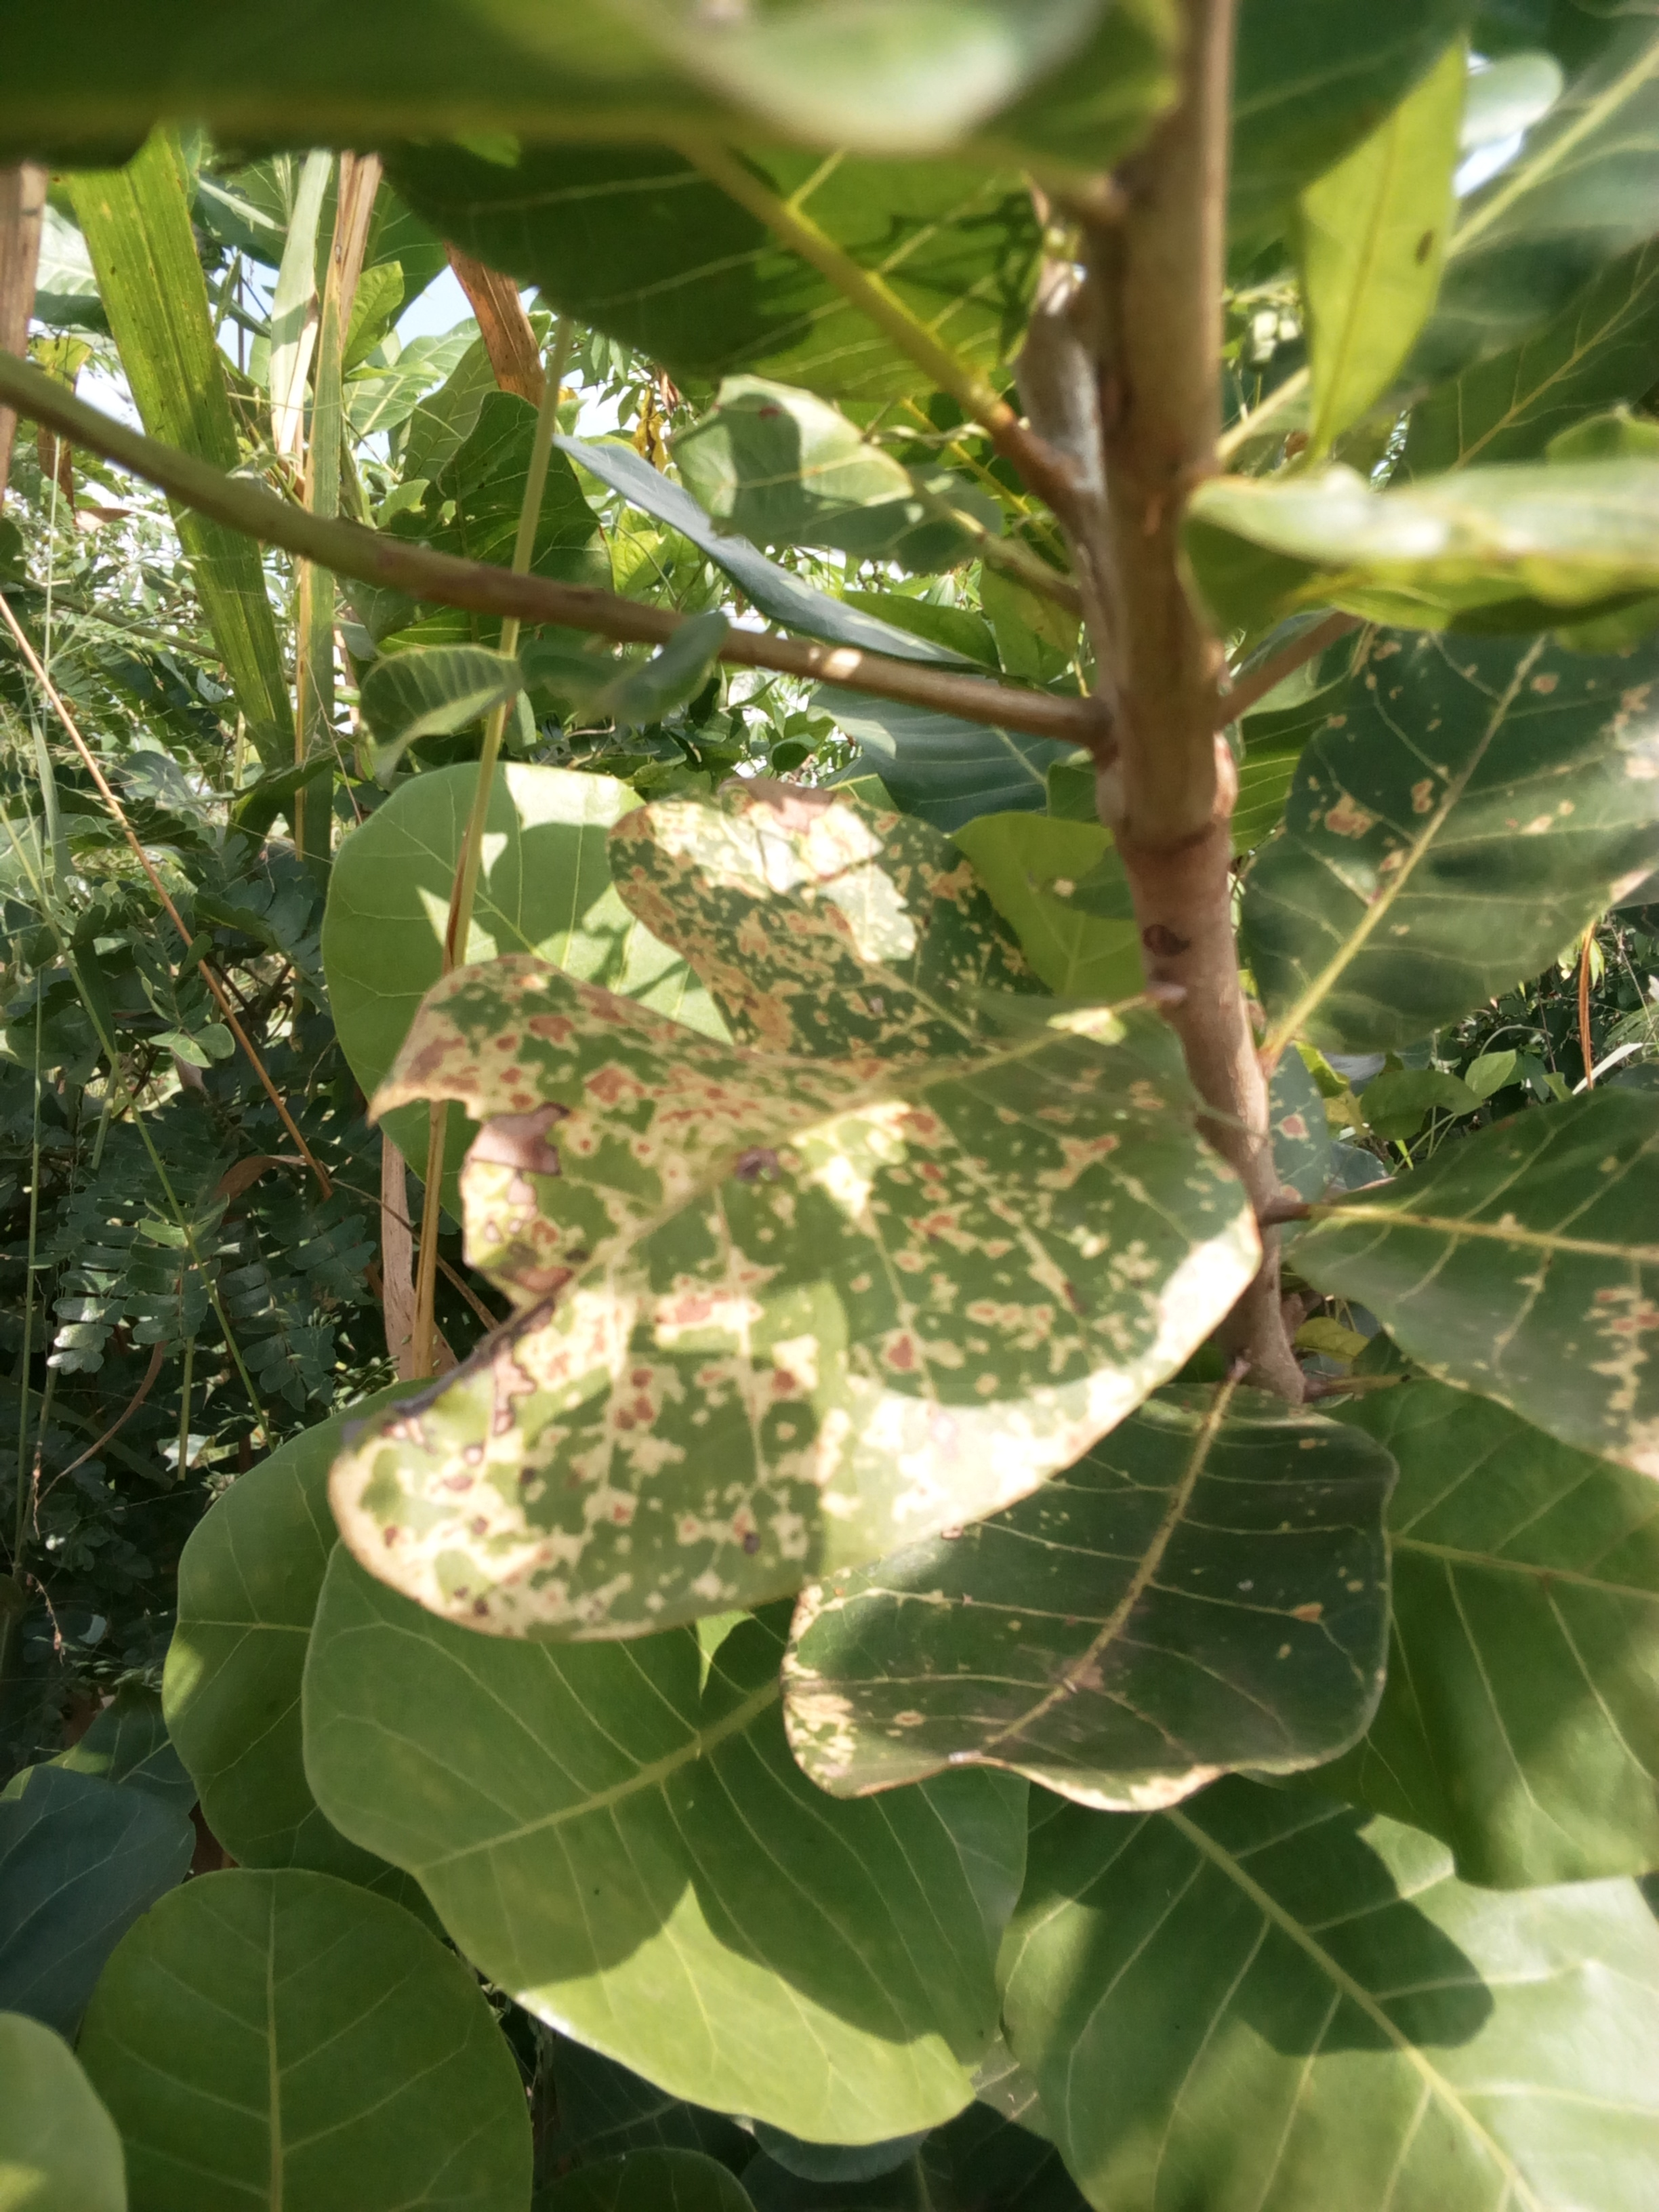Carence minérale: (288, 766, 1300, 1648), (751, 1393, 1415, 1831), (1297, 1082, 1659, 1482)
